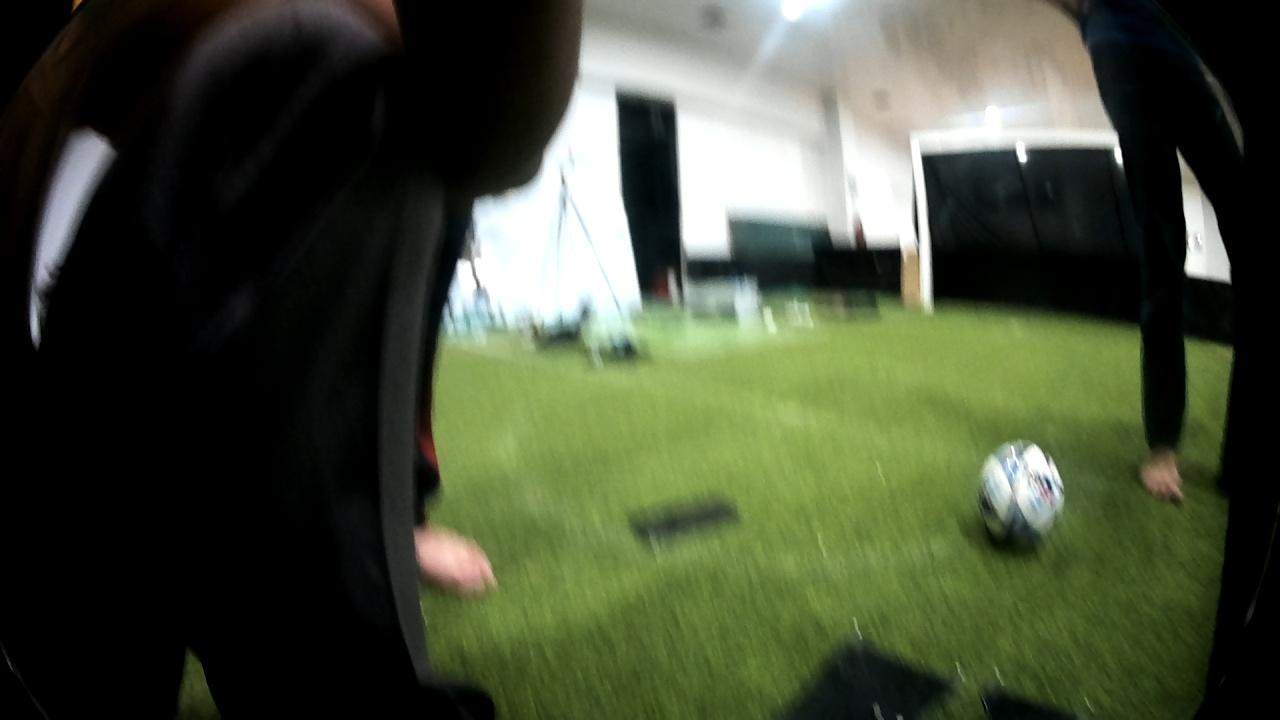ball: (964, 434, 1070, 557)
